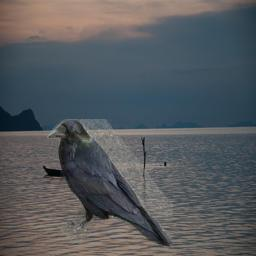Crow: (46, 119, 173, 249)
